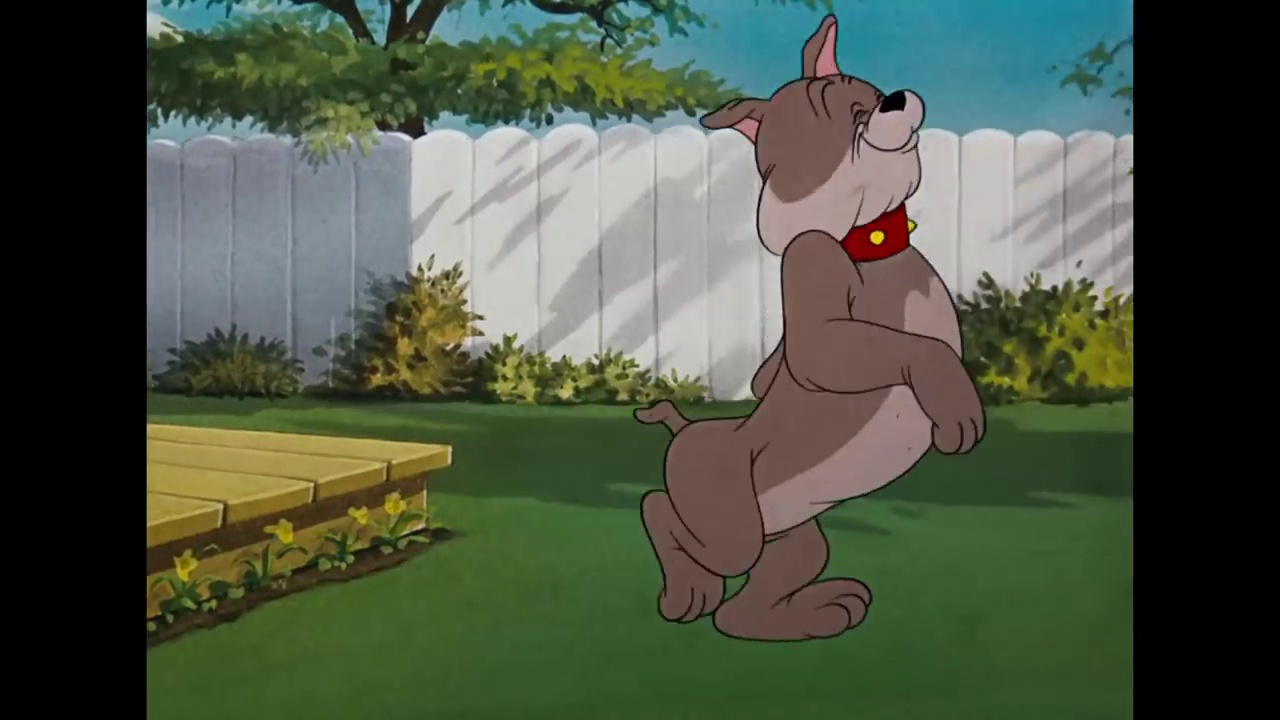spike: (700, 12, 939, 266)
